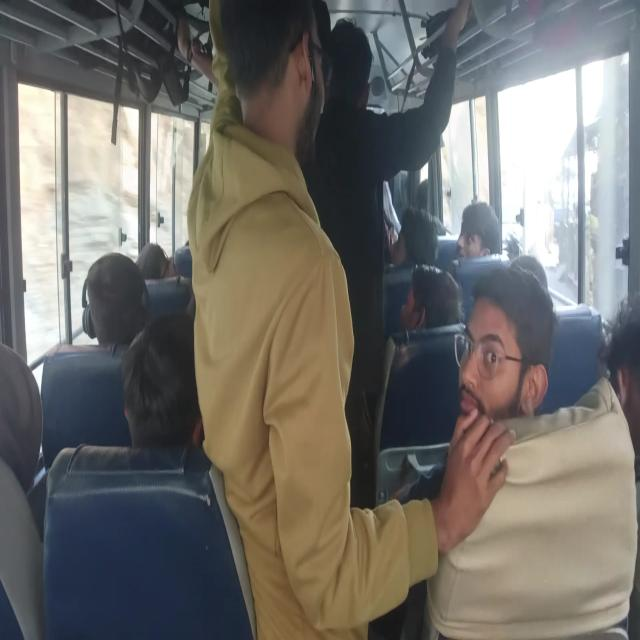person: (376, 328, 466, 507), (466, 281, 557, 432), (217, 0, 318, 100), (138, 333, 190, 432), (450, 254, 512, 318), (86, 258, 142, 328), (605, 300, 640, 406), (390, 203, 440, 268), (382, 262, 421, 339), (458, 201, 504, 251), (173, 242, 193, 280)
